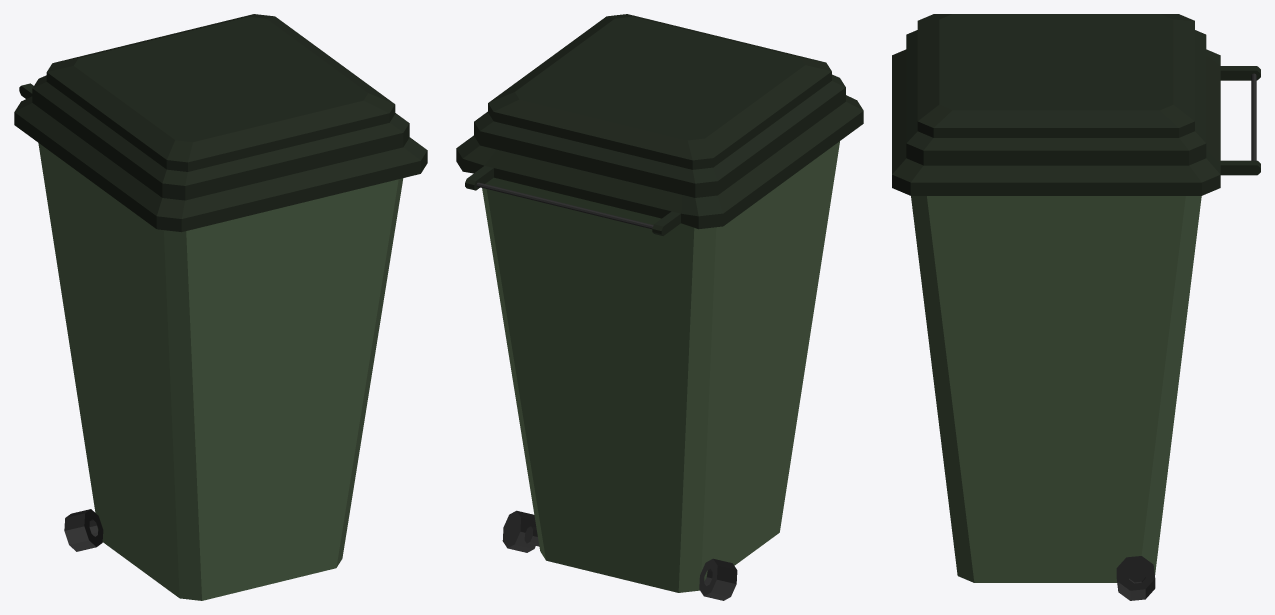
The model's file is green_metallic_bin.fbx.
3 renders of one model, left to right at view 1: azimuth 30°, elevation 25°; view 2: azimuth 150°, elevation 25°; view 3: azimuth 270°, elevation 25°, orthographic. The views are drawn at different scales.
Parts seen in each view (by area): view 1: Cube.005; view 2: Cube.005; view 3: Cube.005.
Boxes of the visible parts, bbox=[...] form: Cube.005: bbox=[14, 14, 427, 600]; Cube.005: bbox=[456, 14, 863, 600]; Cube.005: bbox=[892, 14, 1260, 600].
Bounding box in the file's own units: 204 × 341 × 236.
